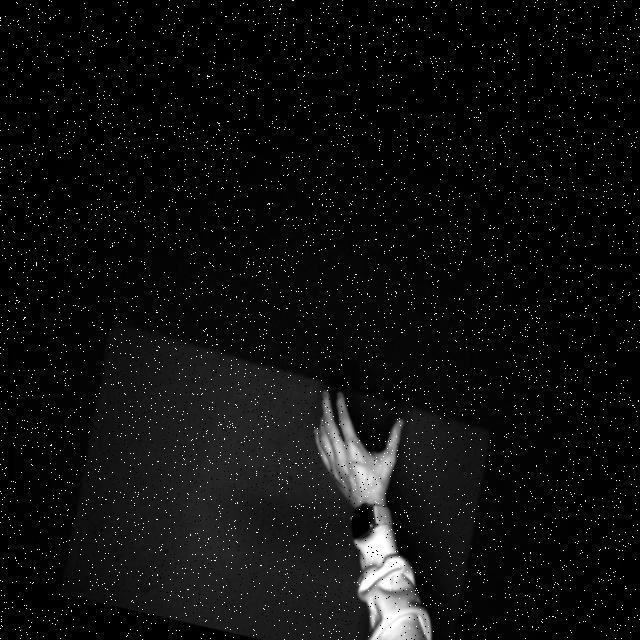no-gloves: (295, 380, 410, 510)
